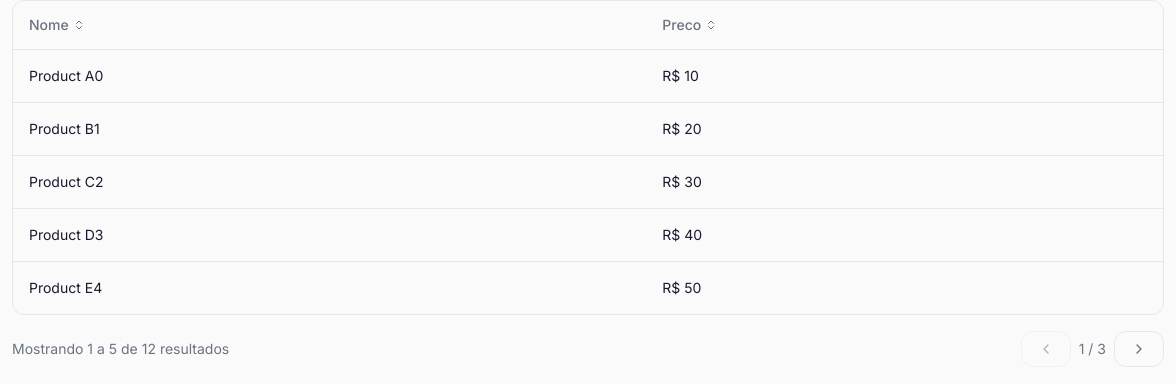
Test case: DataTable › Pagination › should navigate to previous page
This screenshot has width=1176, height=384.
// Go to page 2
Click the 4th button at (1139, 348), box top-left (1114, 330), bottom-right (1164, 366)
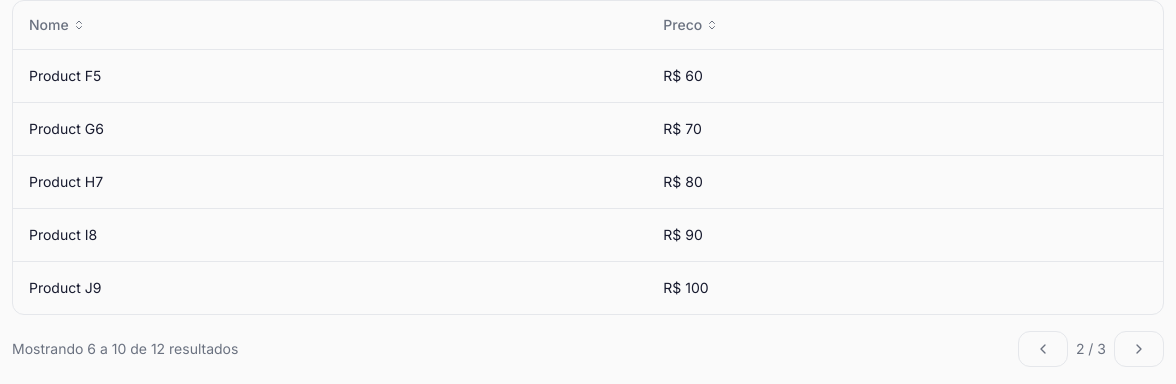
Expected: the text "2 / 3" is shown, top-left (1076, 338), bottom-right (1106, 358)
// Go back to page 1
Click the 3rd button at (1043, 348), box top-left (1018, 330), bottom-right (1068, 366)
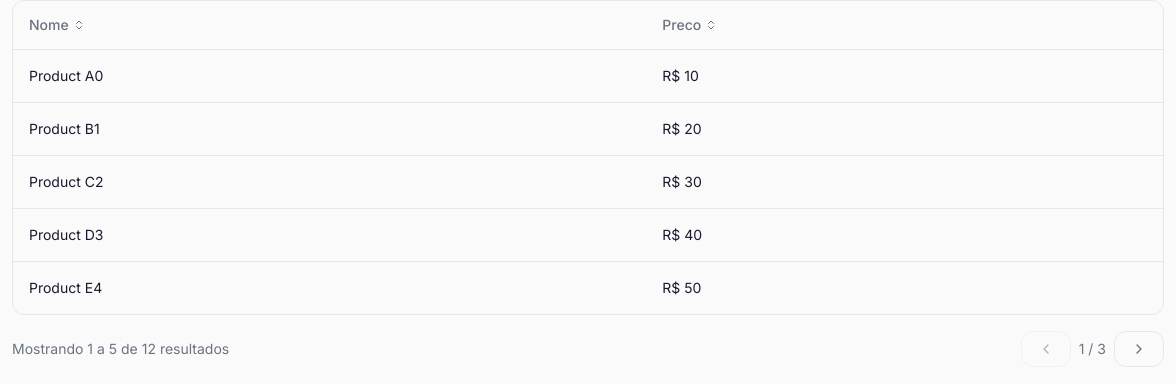
Expected: the text "1 / 3" is shown, top-left (1079, 338), bottom-right (1106, 358)
